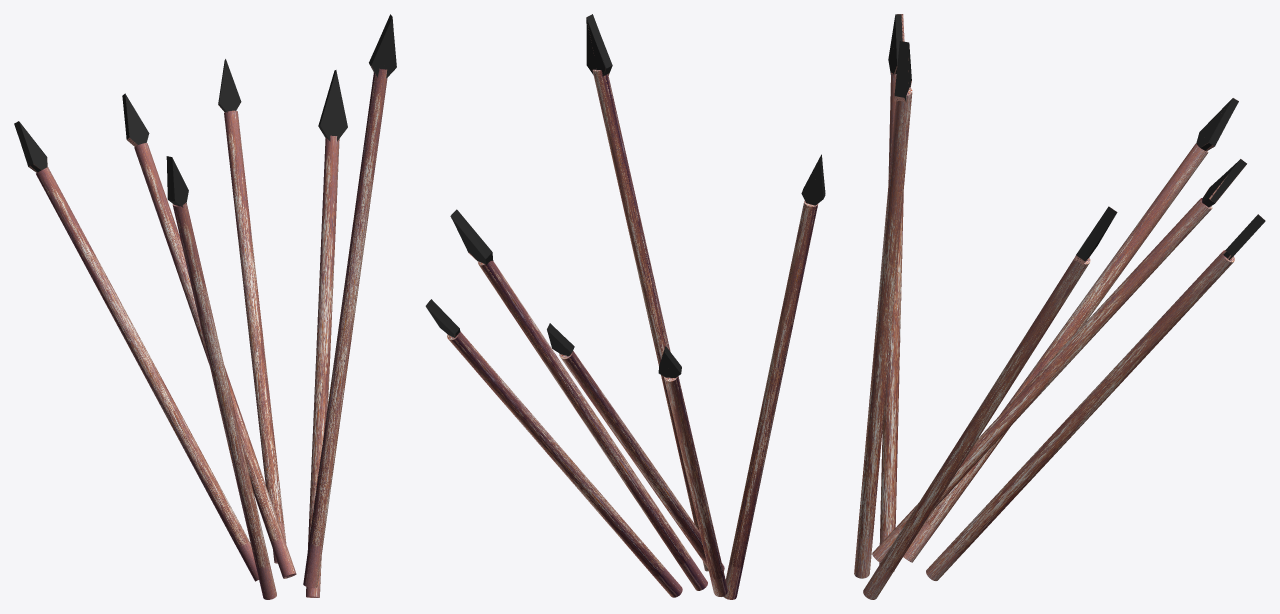
File: Spear cluster Textured.fbx
3 renders of one model, left to right at view 1: azimuth 30°, elevation 25°; view 2: azimuth 150°, elevation 25°; view 3: azimuth 270°, elevation 25°, orthographic. The views are drawn at different scales.
Parts seen in each view (by area): view 1: Sphere001, Object; view 2: Sphere001, Object; view 3: Sphere001, Object.
Part boxes in pixels (left/top/right/bottom): Sphere001: left=29, top=66, right=387, bottom=599; Object: left=14, top=14, right=396, bottom=207; Sphere001: left=447, top=24, right=818, bottom=599; Object: left=425, top=14, right=825, bottom=377; Sphere001: left=854, top=14, right=1265, bottom=599; Object: left=888, top=14, right=1265, bottom=261.
Size of the model in its own units: 151 by 299 by 184.
2 materials, 1 textured.
